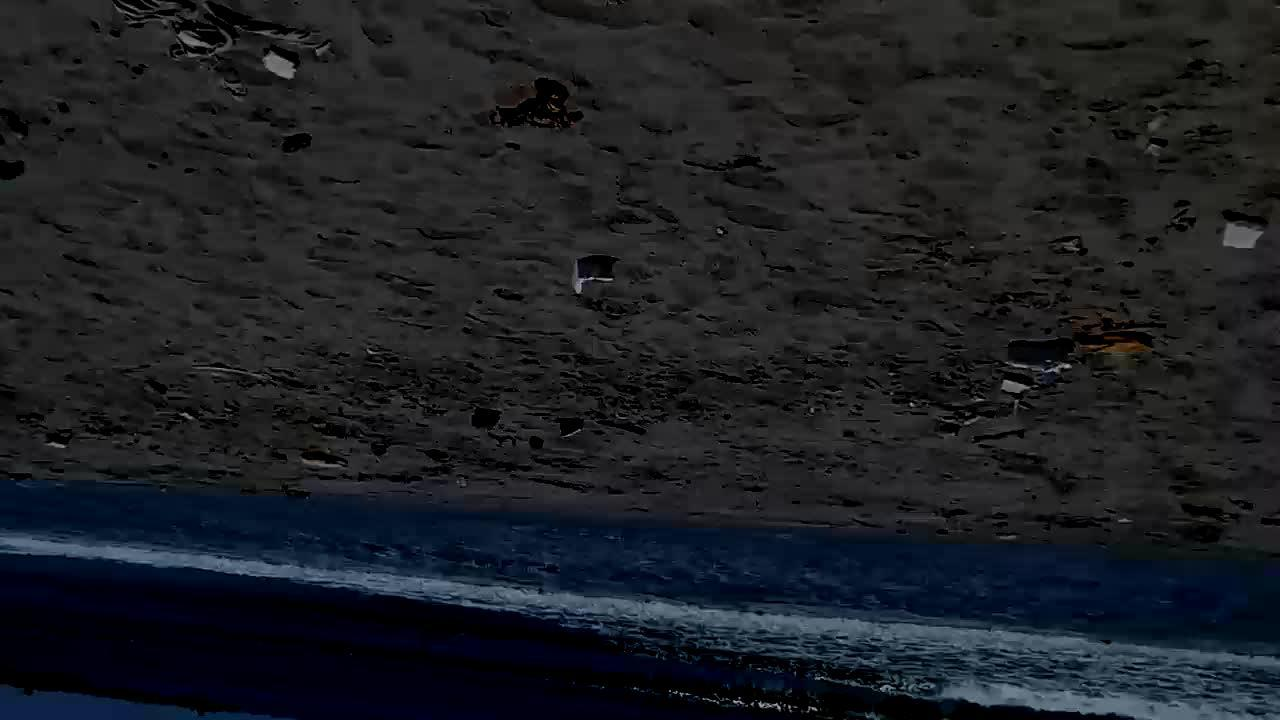obj: (101, 1, 332, 65), (481, 80, 586, 130), (1006, 339, 1074, 371), (929, 413, 999, 441), (1, 108, 26, 176), (1222, 211, 1266, 249), (1078, 332, 1156, 353), (554, 418, 641, 436), (572, 260, 614, 294), (260, 49, 300, 80), (298, 451, 342, 467), (1000, 372, 1034, 392), (471, 410, 502, 430), (44, 432, 68, 448), (284, 138, 308, 150)
sand/background: (1, 469, 1279, 719)
